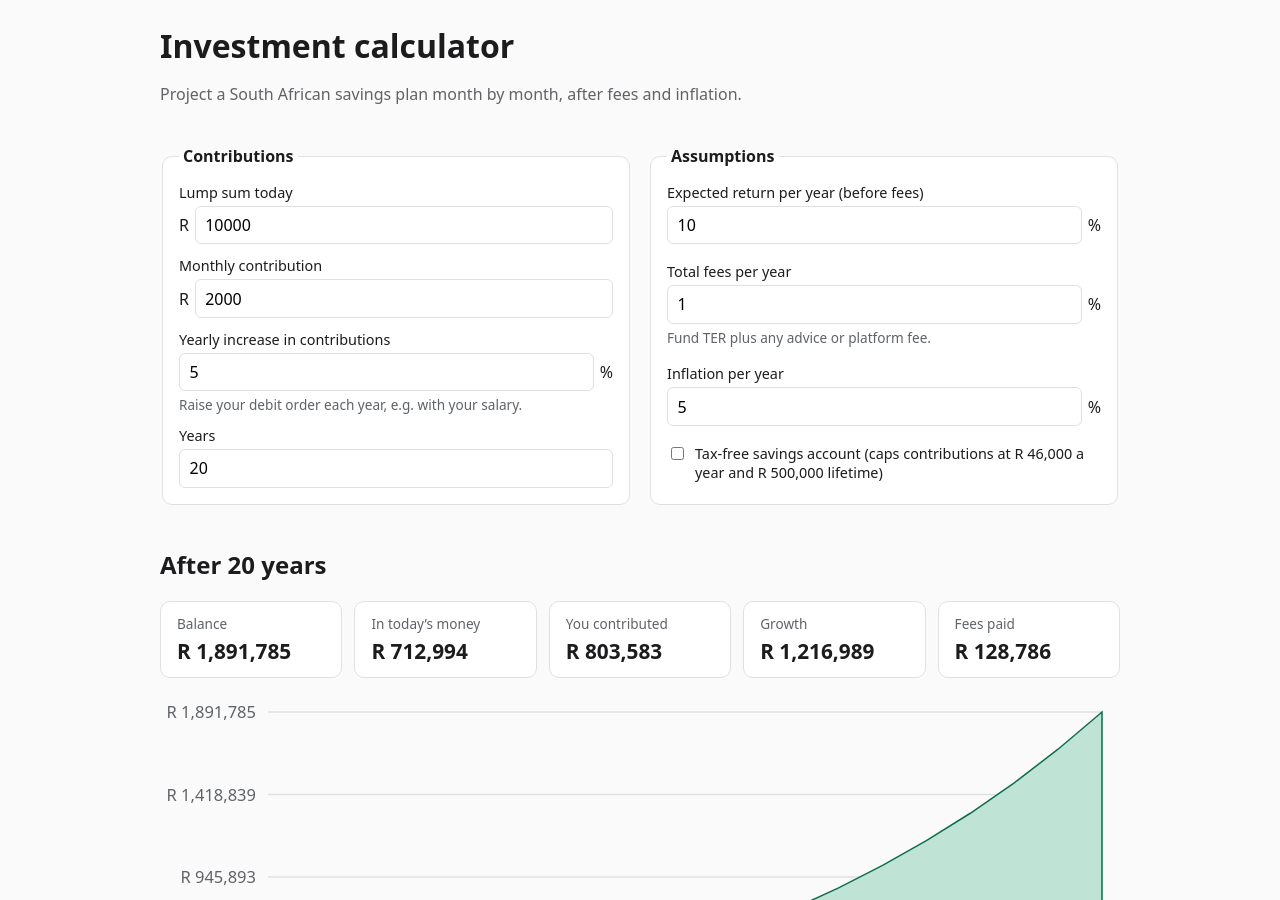
Test: App › shows an inline error and keeps the last valid result for bad input
Replace the text in the field labelled "Years" with "0": (396,468) [179,449,613,488]
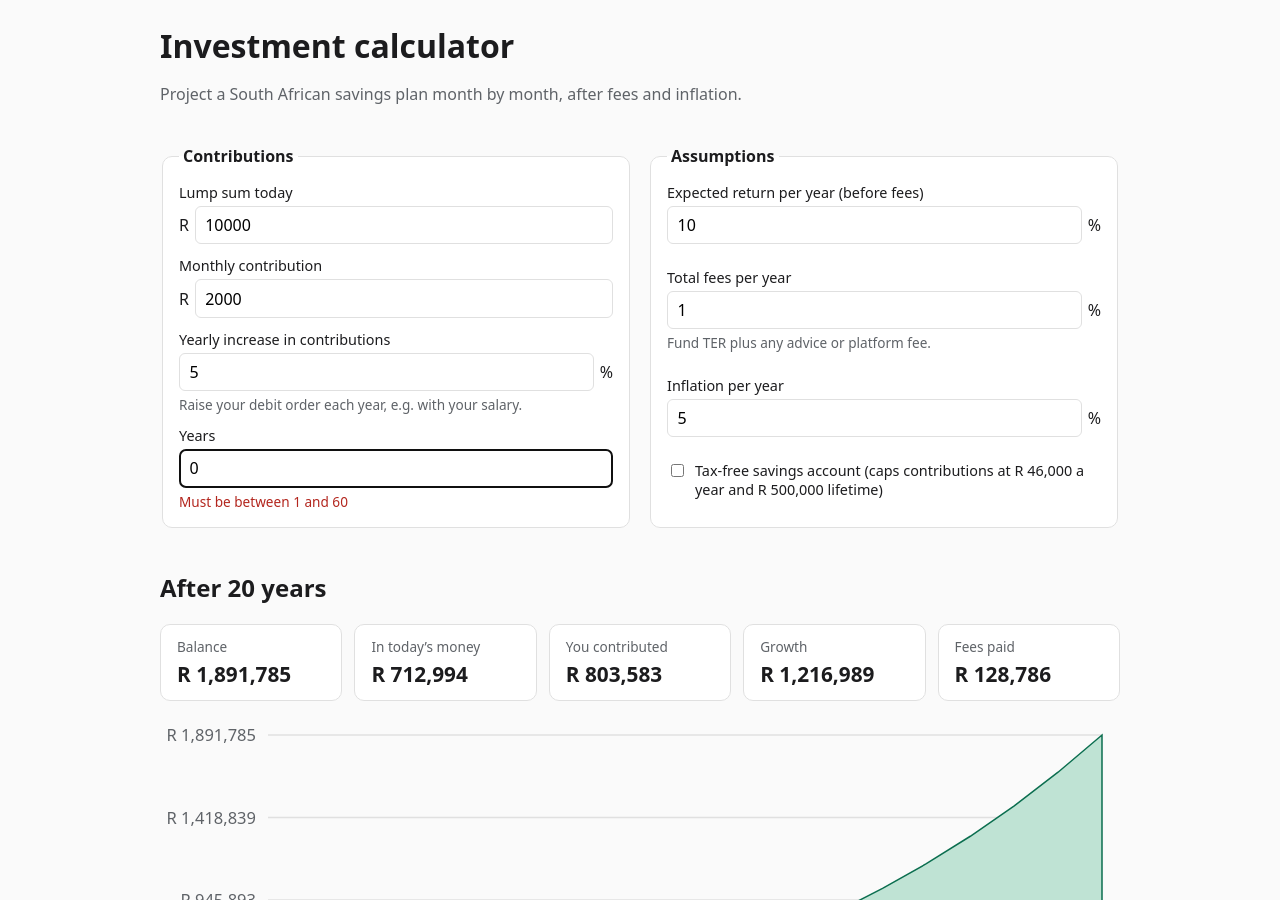
Check: the message reads "Must be between 1 and 60", box [179,492,348,510]
